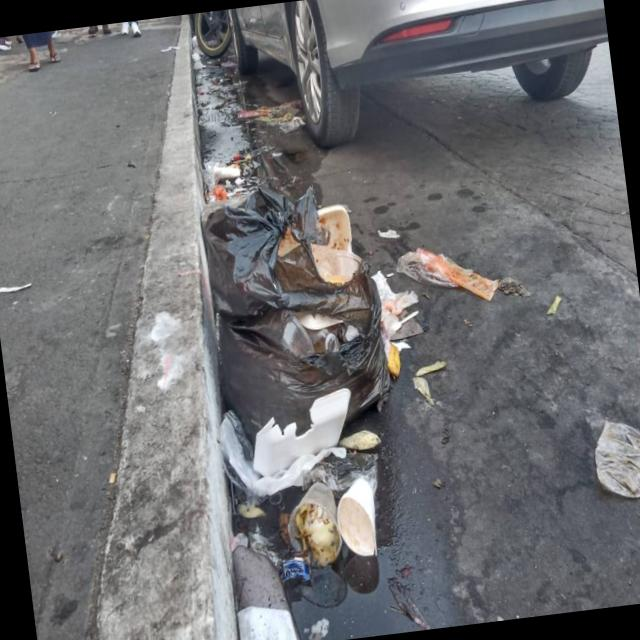garbage: (114, 136, 554, 600)
